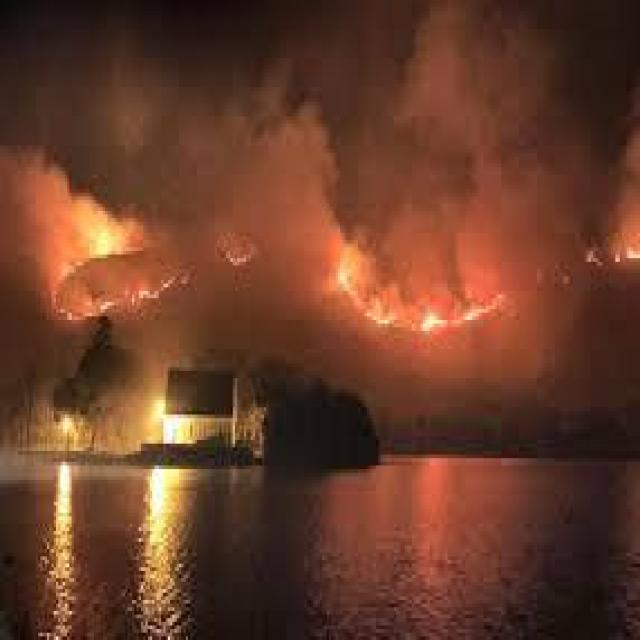fire: (323, 244, 520, 368)
smoke: (110, 83, 321, 345), (385, 15, 607, 262)
